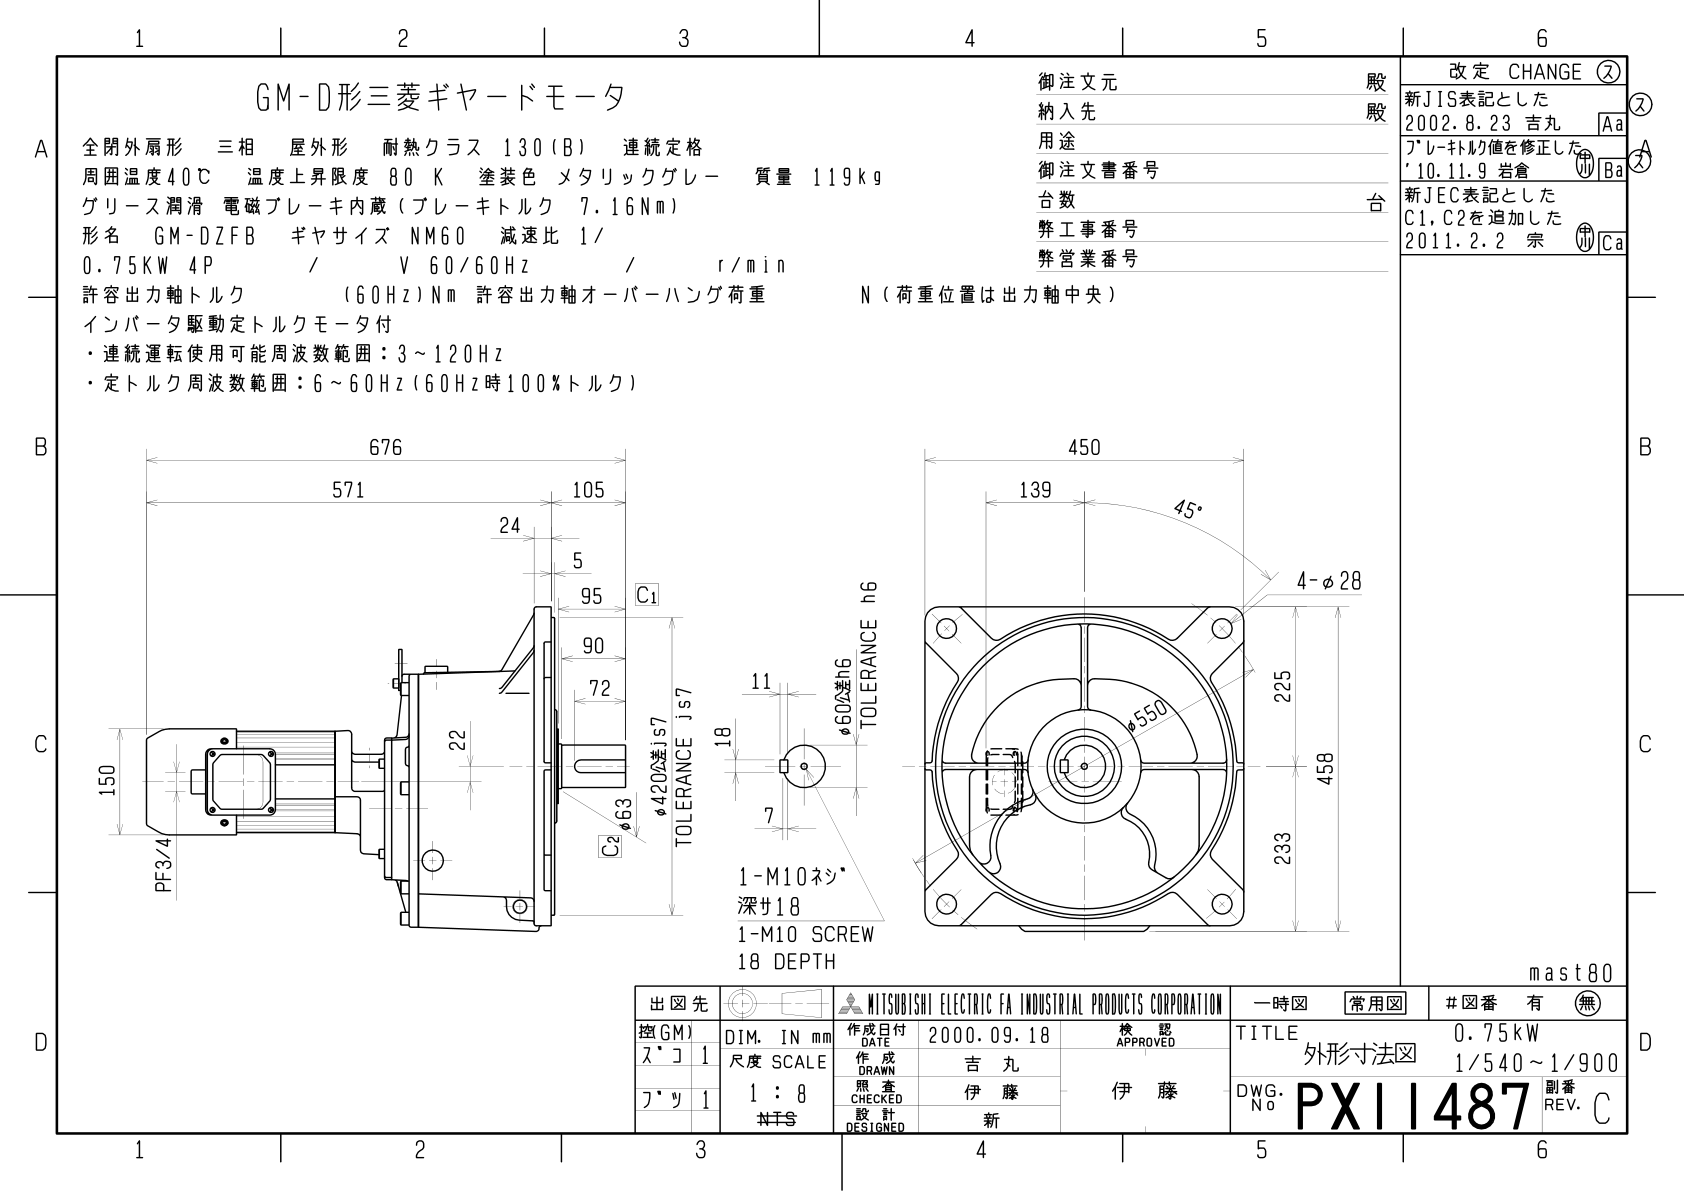GM_D_インバータ屋外_三相_フランジ: (5, 6, 1684, 1191)
